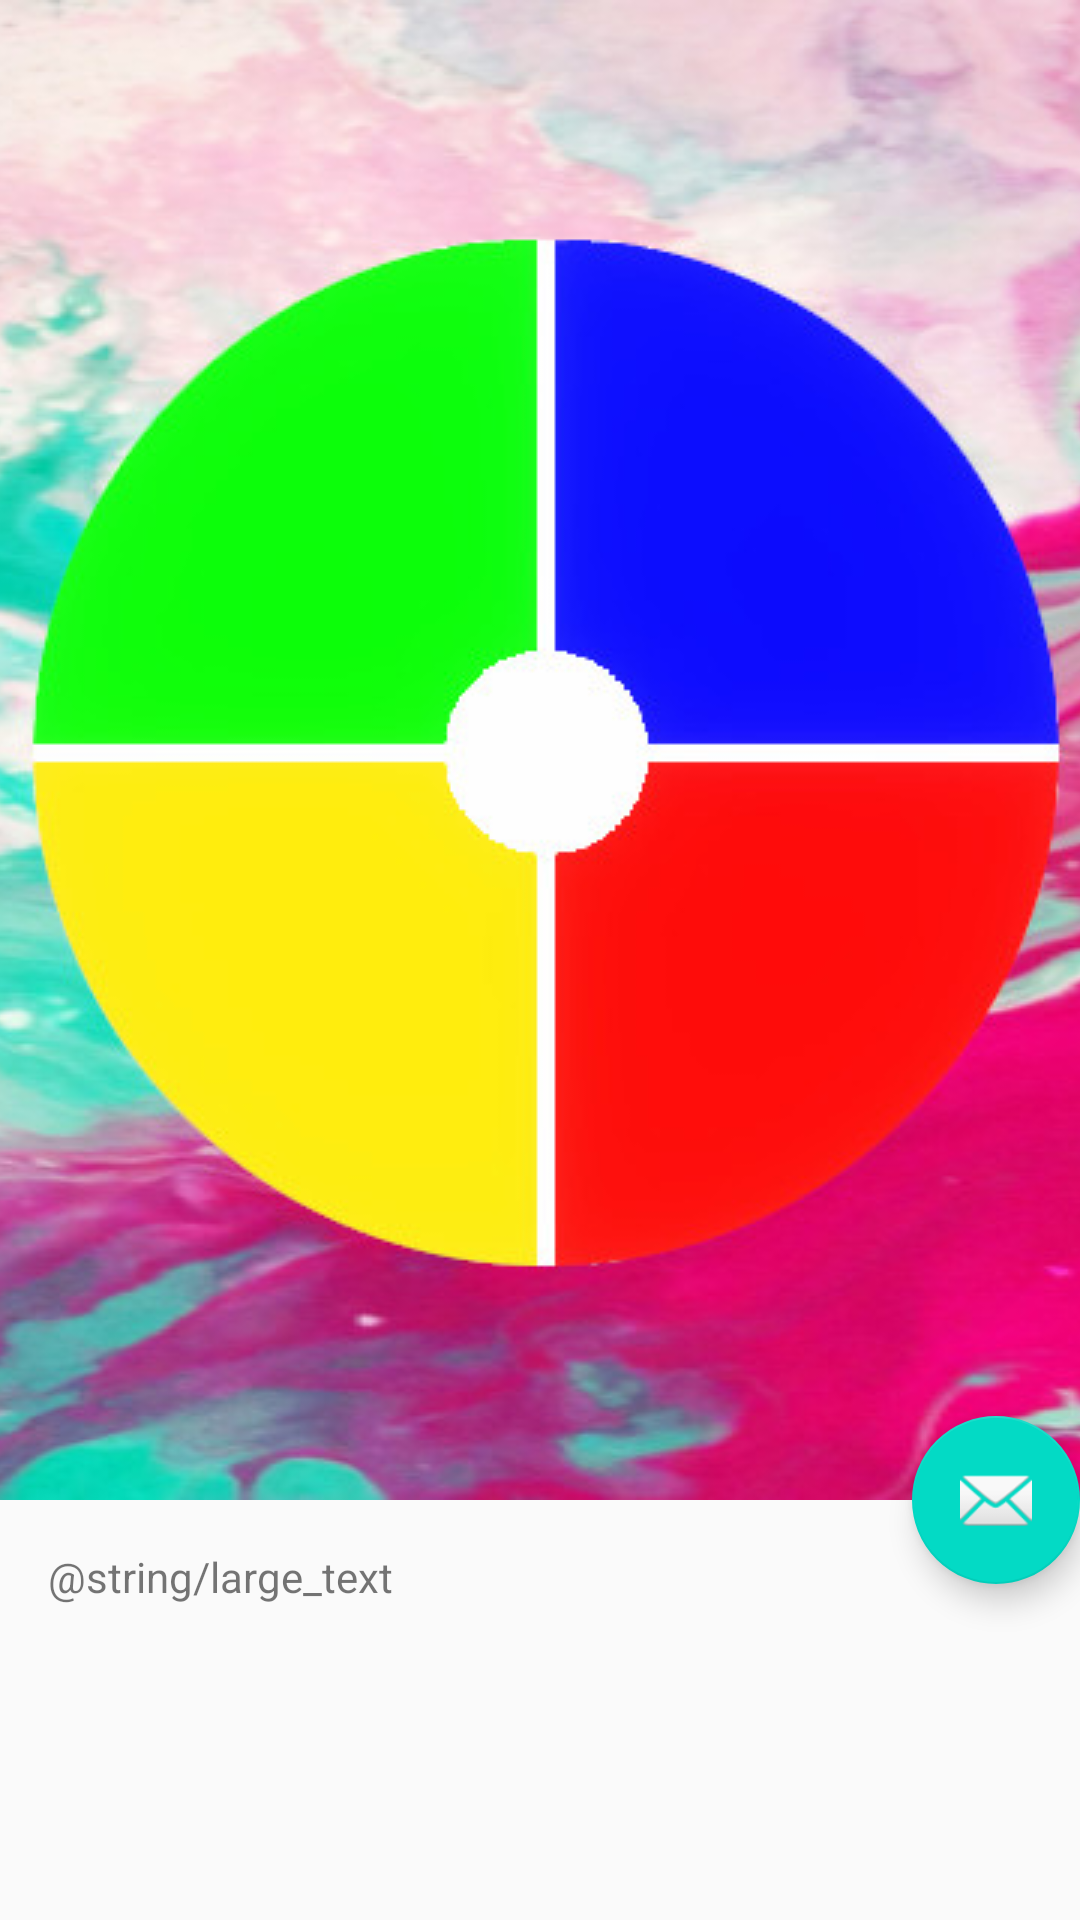

Named icons in this screenshot (1080 × 1920) and their centers, (x=x, y=y):
email: (x=996, y=1500)
